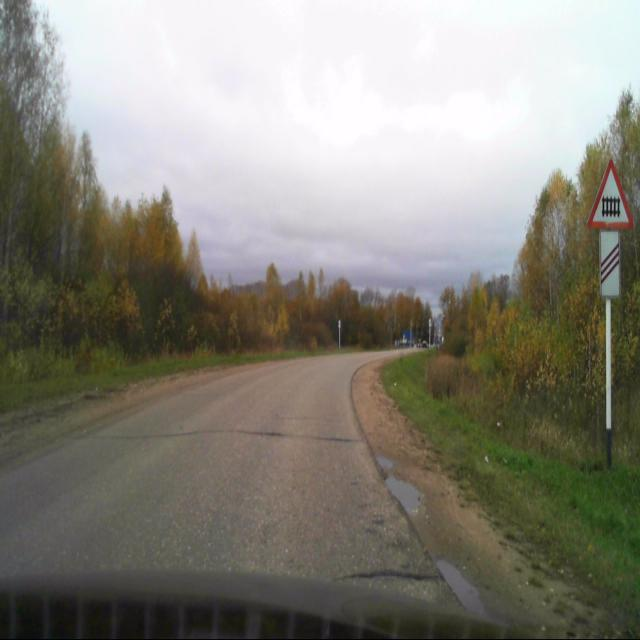road sign: (589, 160, 634, 228), (599, 231, 620, 300), (606, 295, 612, 468)
